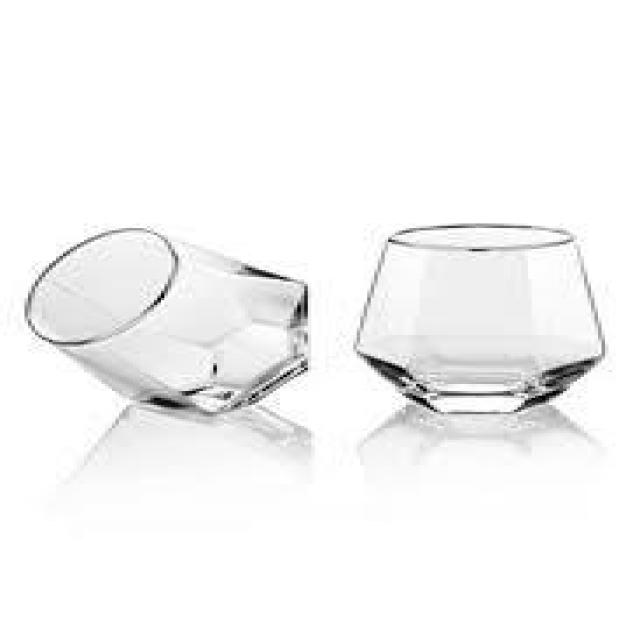non-organic waste: (23, 227, 313, 415), (355, 221, 607, 414)
